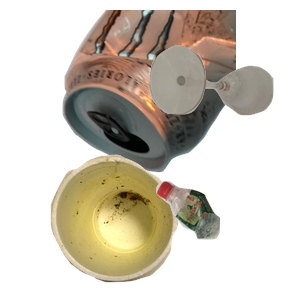glass: (147, 43, 300, 151)
metal: (60, 10, 300, 175)
plastic: (153, 178, 300, 300)
trash: (48, 152, 219, 300)
